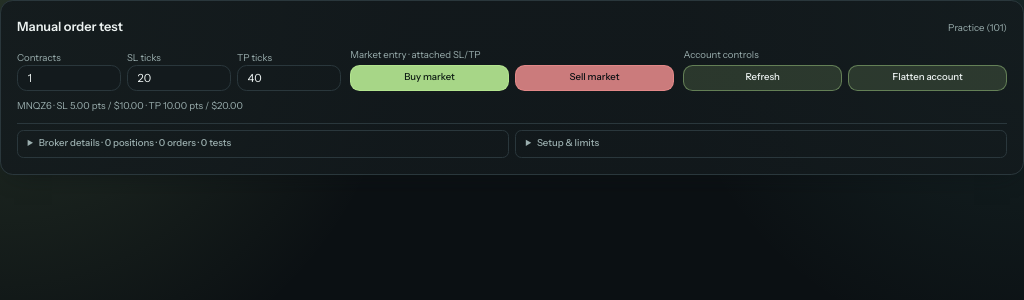
manual broker test panel › sends exactly one confirmed Buy entry with the selected brackets
Expected: the button with aria-label "Buy market + SL/TP" is enabled, [350, 65, 509, 91]
Replace the text in the number field named "Test contracts" with "2": (69, 78) [17, 65, 121, 91]
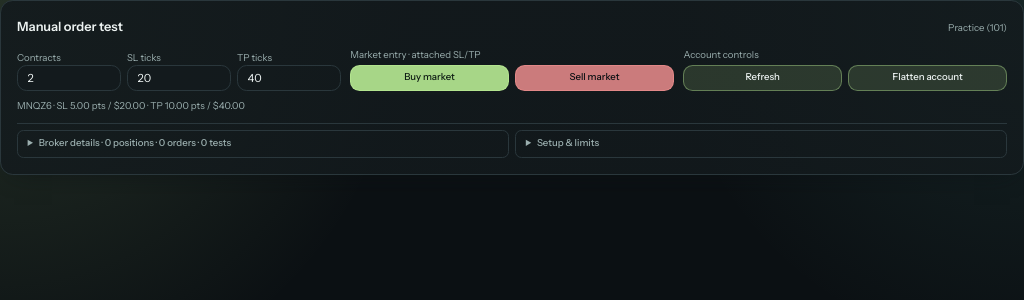
Replace the text in the number field named "Test stop loss ticks" with "12": (179, 78) [127, 65, 231, 91]
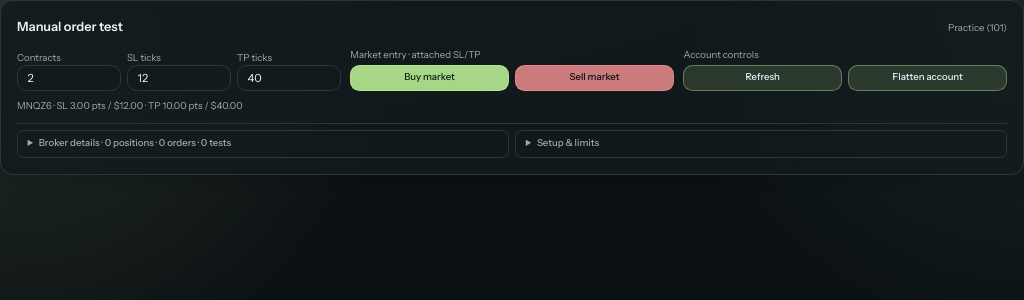
Replace the text in the number field named "Test take profit ticks" with "24": (289, 78) [237, 65, 341, 91]
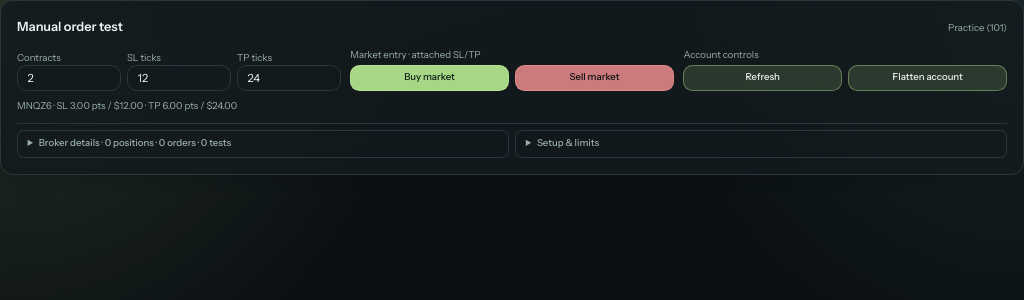
Click the button with aria-label "Buy market + SL/TP": click(430, 78) [350, 65, 509, 91]
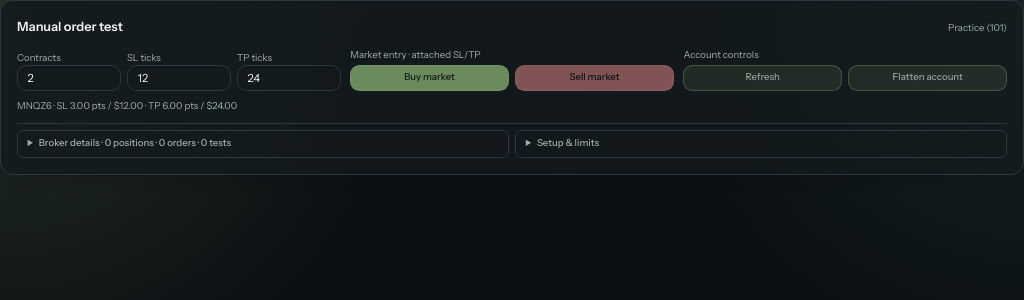
Click the button with aria-label "Buy market + SL/TP": click(430, 78) [350, 65, 509, 91]
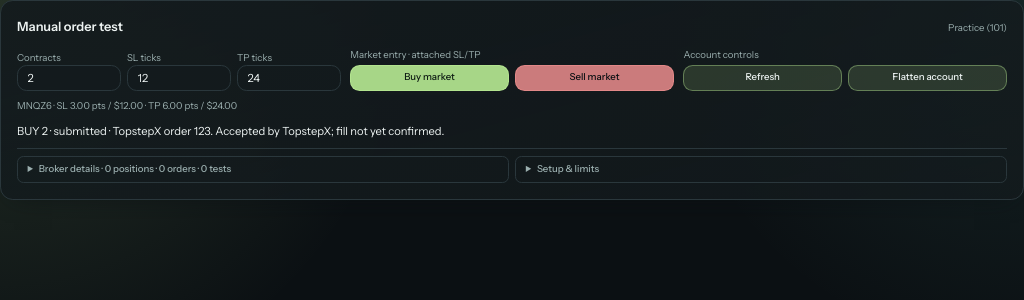
Expected: the text "TopstepX order 123" is shown, [107, 124, 210, 138]
